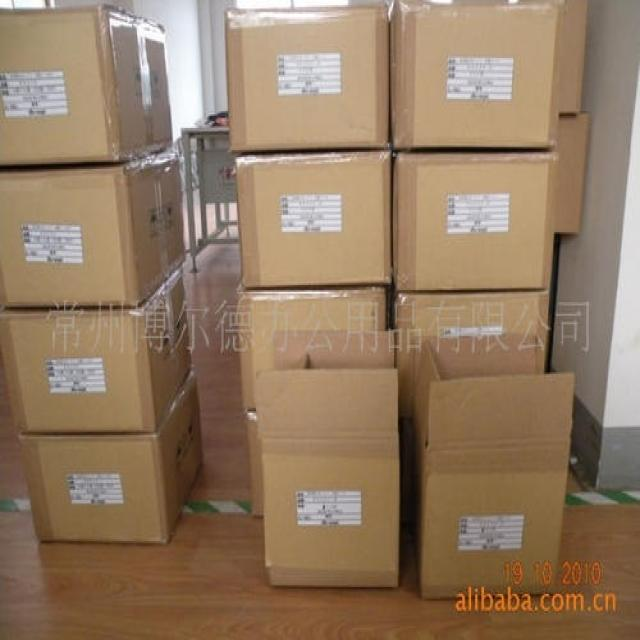box: (409, 334, 574, 597), (256, 331, 398, 590), (0, 259, 192, 431), (17, 367, 204, 542), (0, 146, 187, 311), (0, 4, 173, 171), (389, 1, 566, 149), (226, 7, 389, 152), (392, 151, 555, 292), (235, 151, 393, 291), (394, 290, 548, 417), (239, 287, 388, 410), (555, 115, 588, 234), (557, 2, 588, 112), (246, 409, 261, 516)
